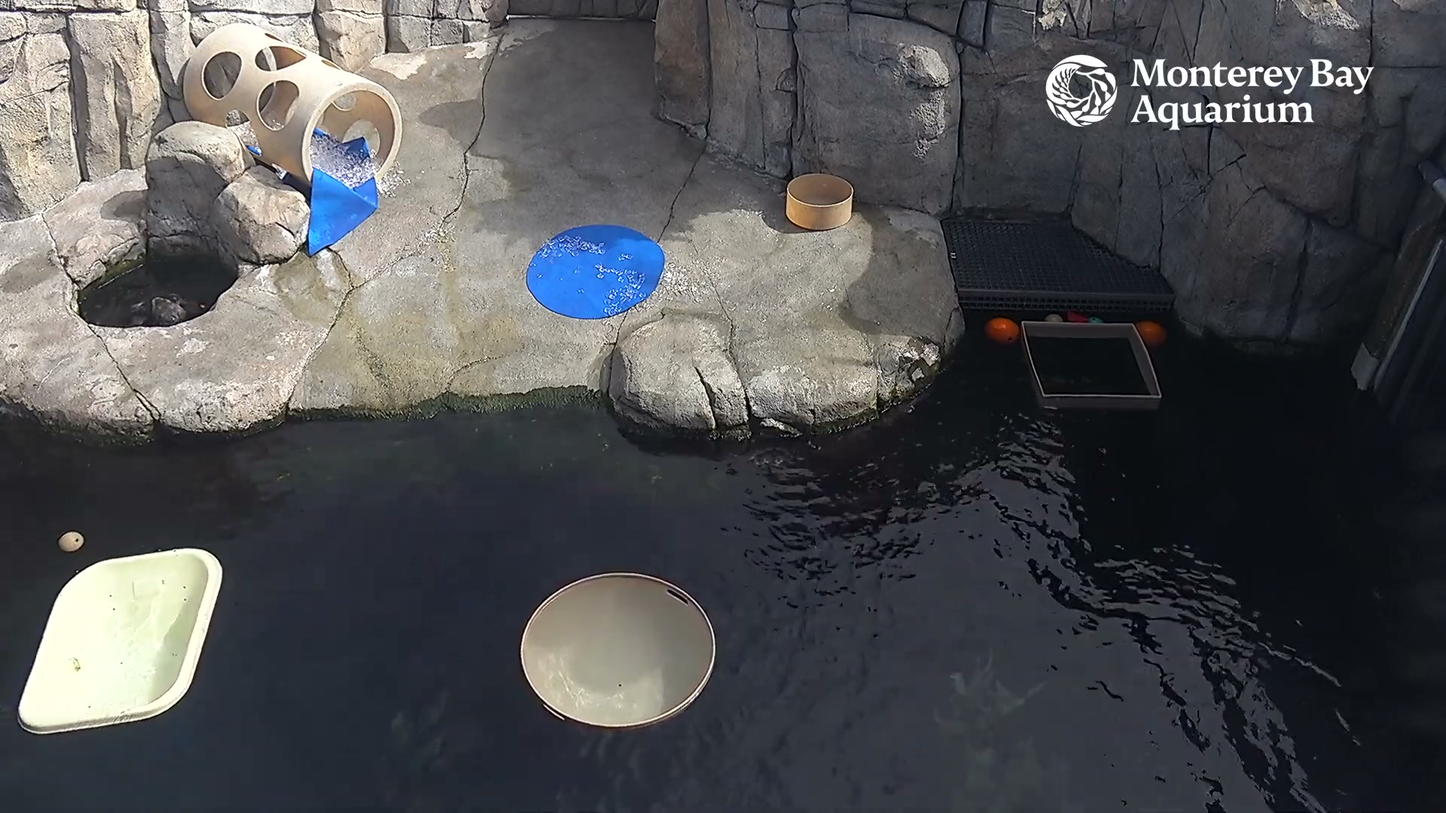Southern Sea Otter: (131, 285, 206, 330)
